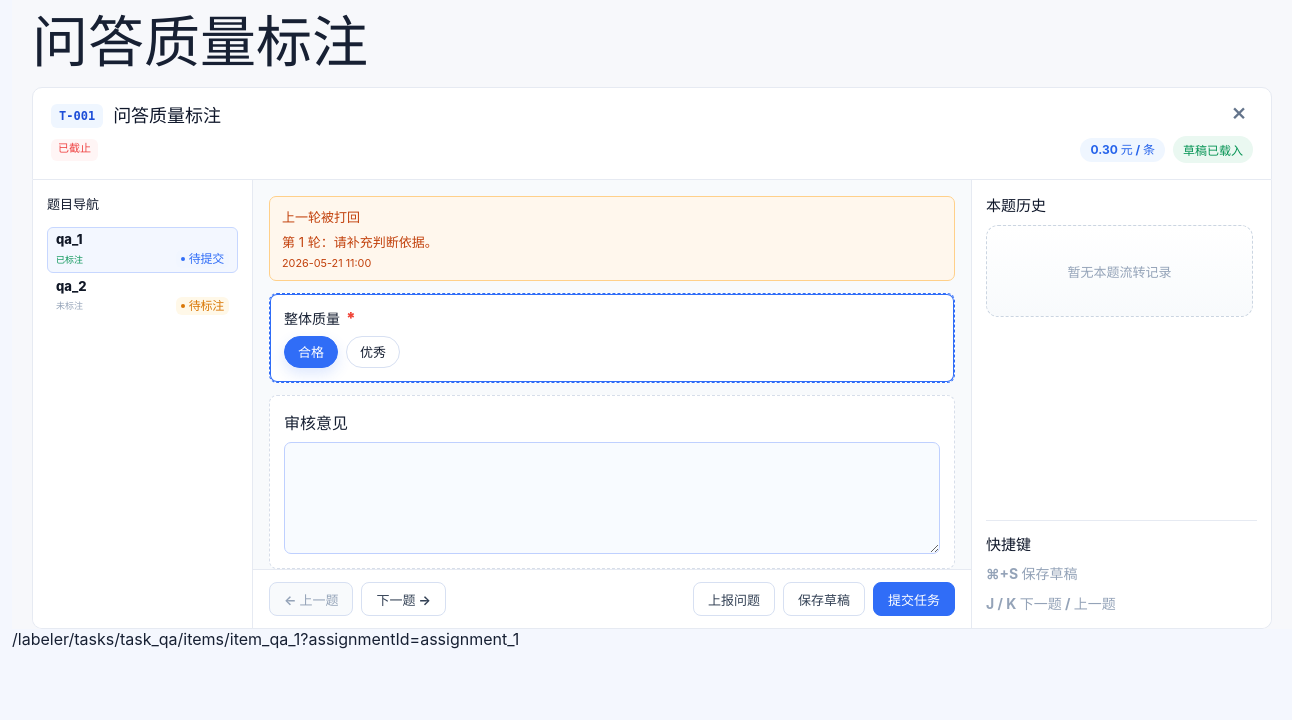
it: WorkbenchPage › 提交任务前会读取非当前题的本地临时草稿，避免必须先点进该题才能提交
Expected: the heading "问答质量标注" is shown, x1=32 y1=8 x2=368 y2=76
Click the button "提交任务" at (914, 599), box x1=873 y1=582 x2=955 y2=616
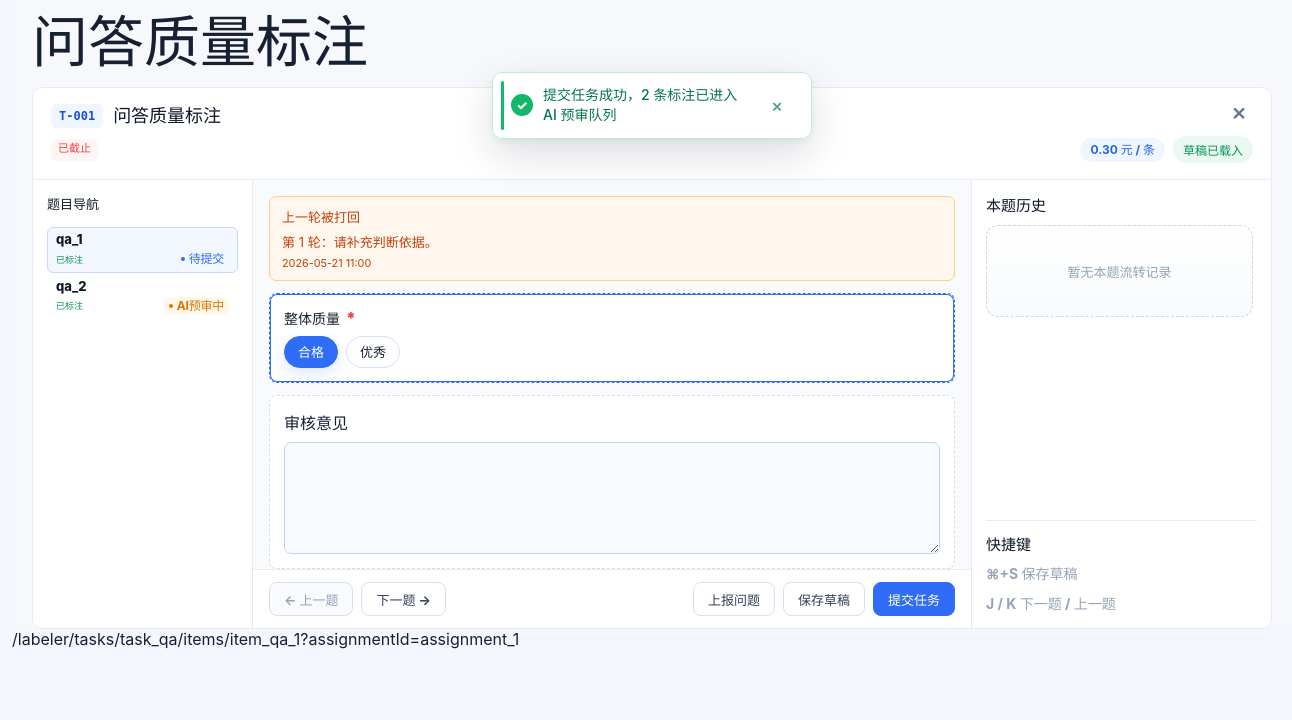
Result: the text "提交任务成功，2 条标注已进入 AI 预审队列" is shown at x1=543 y1=85 x2=753 y2=126
